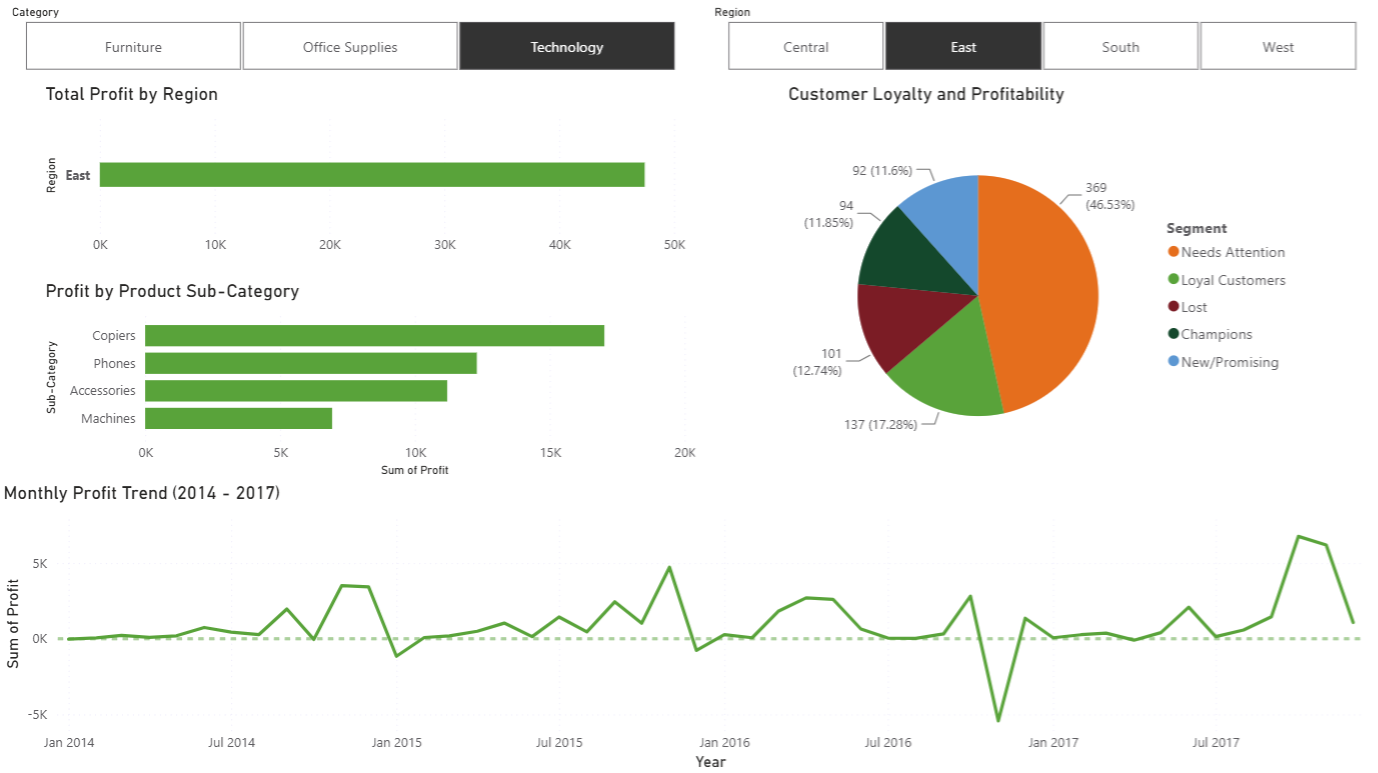

What the dashboard file says about the page in this screenshot:
{"tool":"powerbi","page":{"name":"Page 1","canvas":[1280,720],"ordinal":0},"visuals":[{"type":"clusteredBarChart","title":"Total Profit by Region","fields":{"Category":["orders.Region"],"Y":["Sum(orders.Profit)"]},"box":[38.9,91.7,601.4,168.1],"z":0},{"type":"clusteredBarChart","fields":{"Category":["orders.Sub-Category"],"Y":["Sum(orders.Profit)"]},"box":[38.9,265.3,611.1,187.5],"z":1000},{"type":"lineChart","title":"Monthly Profit Trend (2014 - 2017)","fields":{"Category":["orders.order_date_fixed.Variation.Date Hierarchy.Year","orders.order_date_fixed.Variation.Date Hierarchy.Quarter","orders.order_date_fixed.Variation.Date Hierarchy.Month","orders.order_date_fixed.Variation.Date Hierarchy.Day"],"Y":["Sum(orders.Profit)"]},"box":[0,447.2,1280.6,272.2],"z":2000},{"type":"pieChart","title":"Customer Loyalty and Profitability","fields":{"Category":["rfm_segments.Segment"],"Y":["CountNonNull(rfm_segments.Customer ID)"]},"box":[725,72.2,479.2,375],"z":3000},{"type":"slicer","fields":{"Values":["orders.Region"]},"box":[650,0,630.6,72.2],"z":4000},{"type":"slicer","fields":{"Values":["orders.Category"]},"box":[0,0,650,72.2],"z":5000}]}

Visuals, with their boxes in screenshot pixels (x1, y1, x2, y2), scaled from the page's 1280x720 canvas onto the 1378x773 screenshot:
"Total Profit by Region" clusteredBarChart: bbox=(42, 98, 689, 279)
clusteredBarChart - orders.Sub-Category x Sum(orders.Profit): bbox=(42, 285, 700, 486)
"Monthly Profit Trend (2014 - 2017)" lineChart: bbox=(0, 480, 1377, 772)
"Customer Loyalty and Profitability" pieChart: bbox=(781, 78, 1296, 480)
slicer - orders.Region: bbox=(700, 0, 1377, 78)
slicer - orders.Category: bbox=(0, 0, 700, 78)
